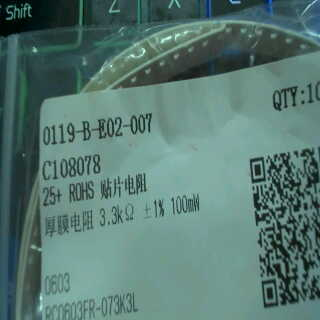3.3kO: (94, 200, 137, 232)
